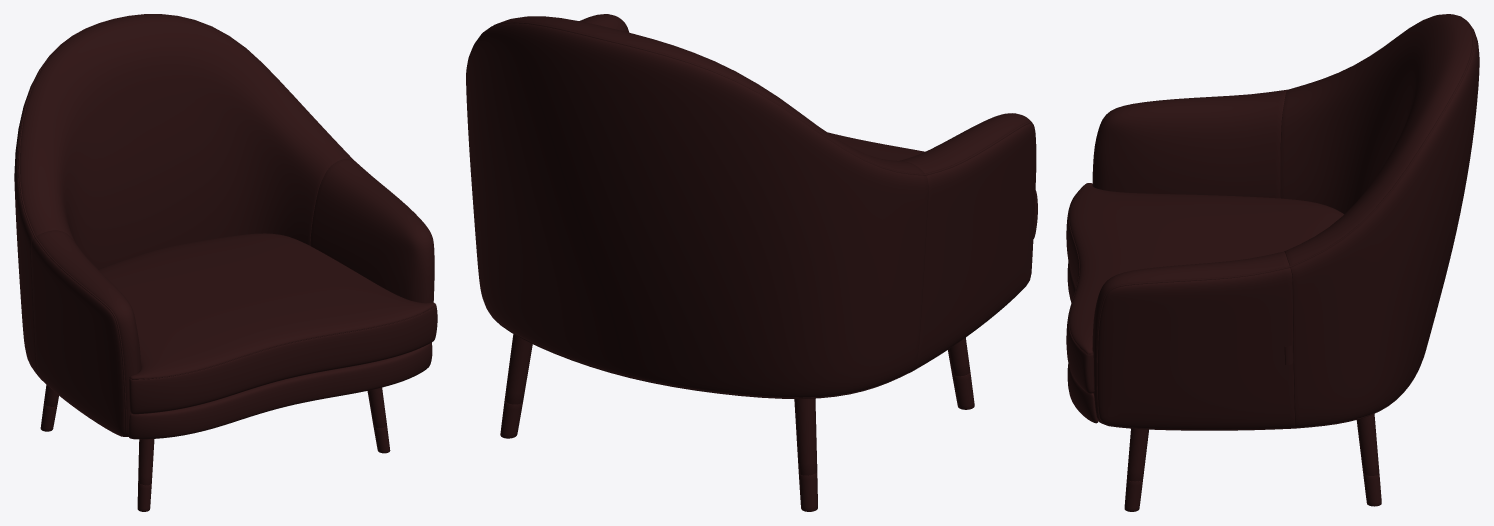
The model's file is corona.obj.
3 views of the same model, side by side, from view 1: azimuth 30°, elevation 25°; view 2: azimuth 150°, elevation 25°; view 3: azimuth 270°, elevation 25° (orthographic). The views are drawn at different scales.
Parts seen in each view (by area): view 1: bratga_003, bratga_004, bratga_005, bratga_007, bratga_002, bratga_006; view 2: bratga_003, bratga_002, bratga_007, bratga_006, bratga_004; view 3: bratga_003, bratga_004, bratga_002, bratga_007, bratga_006, bratga_005.
Part boxes in pixels (x1,y1,x2,y2): bratga_003: (14, 14, 434, 436); bratga_004: (98, 233, 437, 414); bratga_005: (128, 342, 432, 439); bratga_007: (18, 14, 434, 436); bratga_002: (44, 385, 386, 485); bratga_006: (40, 404, 390, 511); bratga_003: (466, 14, 1036, 397); bratga_002: (504, 334, 970, 475); bratga_007: (482, 21, 1034, 398); bratga_006: (500, 372, 974, 511); bratga_004: (828, 132, 1037, 238); bratga_003: (1092, 14, 1479, 430); bratga_004: (1066, 183, 1344, 393); bratga_002: (1127, 414, 1379, 481); bratga_007: (1096, 14, 1474, 430); bratga_006: (1124, 474, 1381, 511); bratga_005: (1067, 261, 1098, 423).
Size of the model in its own units: 879 by 892 by 829.
